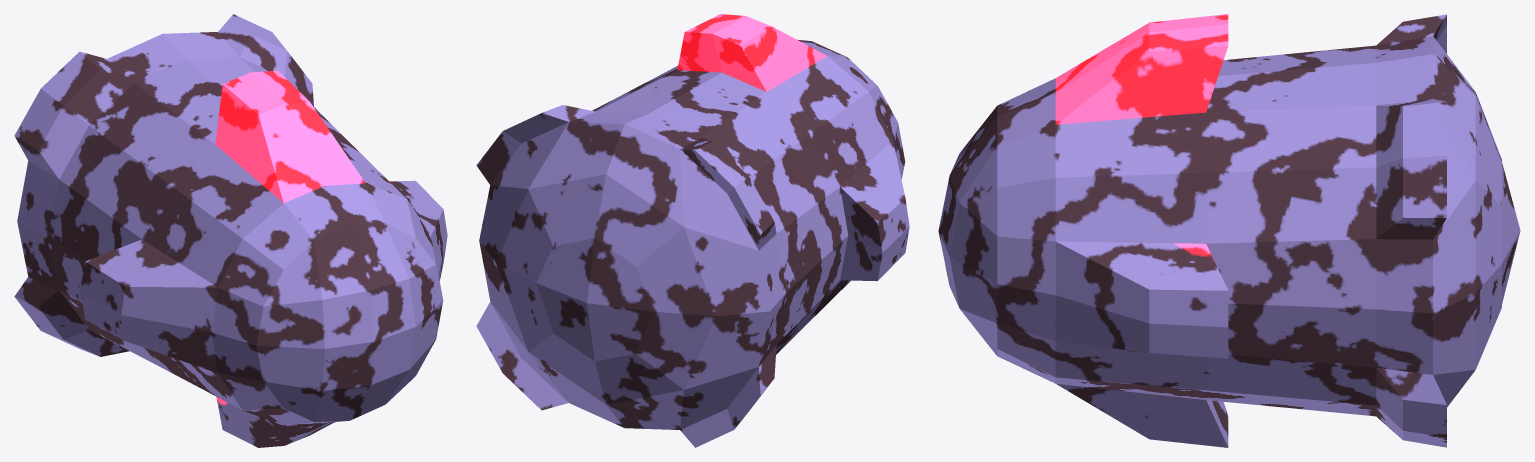
Rendered from PrBomb.fbx.
3 renders of one model, left to right at view 1: azimuth 30°, elevation 25°; view 2: azimuth 150°, elevation 25°; view 3: azimuth 270°, elevation 25°, orthographic. The views are drawn at different scales.
Visible parts, largest first — view 1: PrjctBomb; view 2: PrjctBomb; view 3: PrjctBomb.
Boxes of the visible parts, left/top/right/bottom form: PrjctBomb: left=14, top=14, right=447, bottom=447; PrjctBomb: left=476, top=14, right=909, bottom=447; PrjctBomb: left=938, top=14, right=1520, bottom=447.
Size of the model in its own units: 264 by 264 by 337.
Materials: 1 (1 with a texture image).
